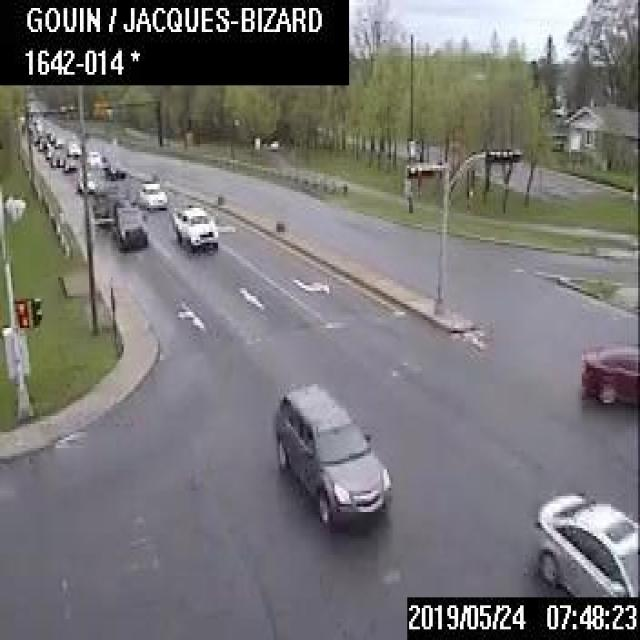vehicle: (273, 381, 389, 531), (532, 490, 638, 594), (580, 341, 638, 405), (171, 205, 217, 250), (109, 205, 146, 247), (138, 181, 166, 209), (76, 169, 93, 191), (49, 147, 64, 165), (85, 149, 99, 163), (66, 141, 80, 153), (37, 134, 49, 148), (44, 147, 51, 157)
